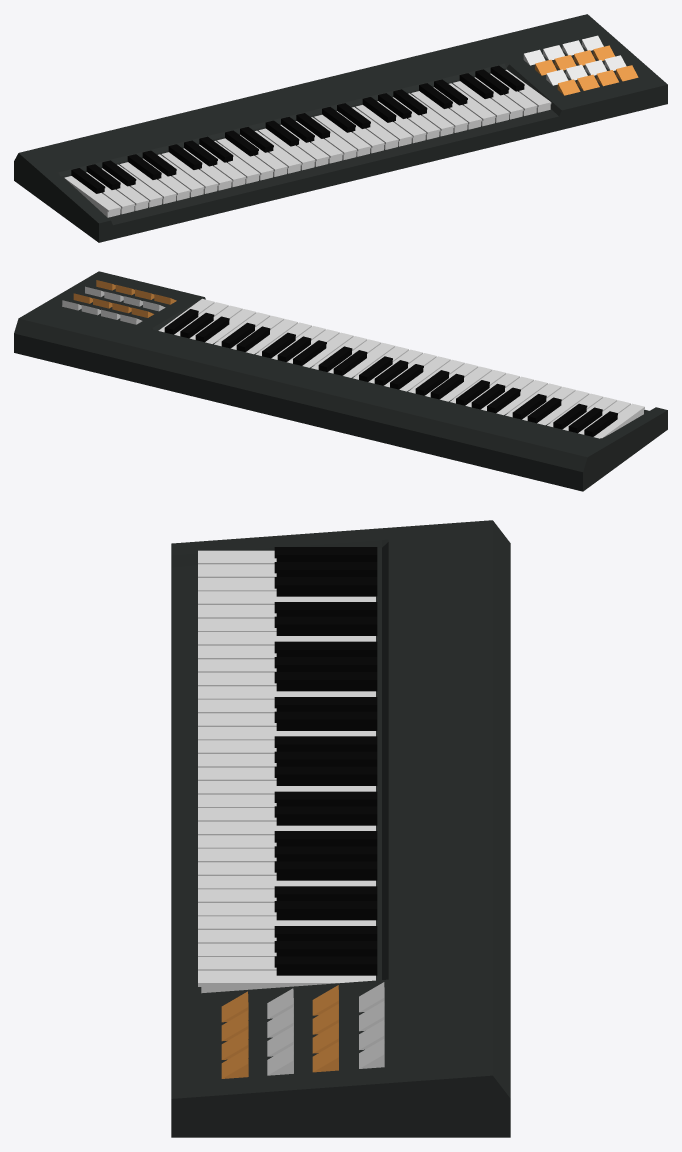
File: piano.fbx
3 renders of one model, top to bottom at view 1: azimuth 30°, elevation 25°; view 2: azimuth 150°, elevation 25°; view 3: azimuth 270°, elevation 25°, orthographic. The views are drawn at different scales.
Visible parts, largest first — view 1: Piano, Cube.007, Cube.031, Cube.032, Cube.033, Cube.034, Cube.011, Cube.012, Cube.028, Cube.009, Cube.030, Cube.010 (+17 smaller); view 2: Piano, Cube.007, Cube.031, Cube.033, Cube.032, Cube.034, Cube.011, Cube.028, Cube.009, Cube.030, Cube.012, Cube.010 (+17 smaller); view 3: Piano, Cube.007, Cube.031, Cube.032, Cube.033, Cube.022, Cube.025, Cube.030, Cube.010, Cube.012, Cube.017, Cube.020 (+17 smaller).
Part boxes in pixels (<box>): Piano: <box>14,14,667,242</box>; Cube.007: <box>64,69,551,217</box>; Cube.031: <box>557,65,638,95</box>; Cube.032: <box>546,55,626,85</box>; Cube.033: <box>535,45,615,75</box>; Cube.034: <box>523,35,603,65</box>; Cube.011: <box>127,154,161,179</box>; Cube.012: <box>142,150,176,176</box>; Cube.028: <box>459,73,493,98</box>; Cube.009: <box>86,164,120,189</box>; Cube.030: <box>490,65,524,91</box>; Cube.010: <box>102,160,136,186</box>; Piano: <box>14,271,667,491</box>; Cube.007: <box>158,298,644,438</box>; Cube.031: <box>96,280,176,304</box>; Cube.033: <box>73,293,153,317</box>; Cube.032: <box>85,286,165,311</box>; Cube.034: <box>62,300,142,324</box>; Cube.011: <box>527,397,561,423</box>; Cube.028: <box>195,316,229,342</box>; Cube.009: <box>568,407,602,433</box>; Cube.030: <box>164,309,198,334</box>; Cube.012: <box>512,394,546,419</box>; Cube.010: <box>553,403,587,429</box>; Piano: <box>171,520,510,1137</box>; Cube.007: <box>198,550,375,993</box>; Cube.031: <box>221,991,248,1078</box>; Cube.032: <box>267,988,293,1075</box>; Cube.033: <box>312,985,338,1072</box>; Cube.022: <box>274,806,377,825</box>; Cube.025: <box>274,861,377,880</box>; Cube.030: <box>274,956,377,975</box>; Cube.010: <box>274,577,377,596</box>; Cube.012: <box>274,616,377,635</box>; Cube.017: <box>274,711,377,730</box>; Cube.020: <box>274,766,377,785</box>.
Size of the model in its own units: 141 by 7.98 by 36.55.
